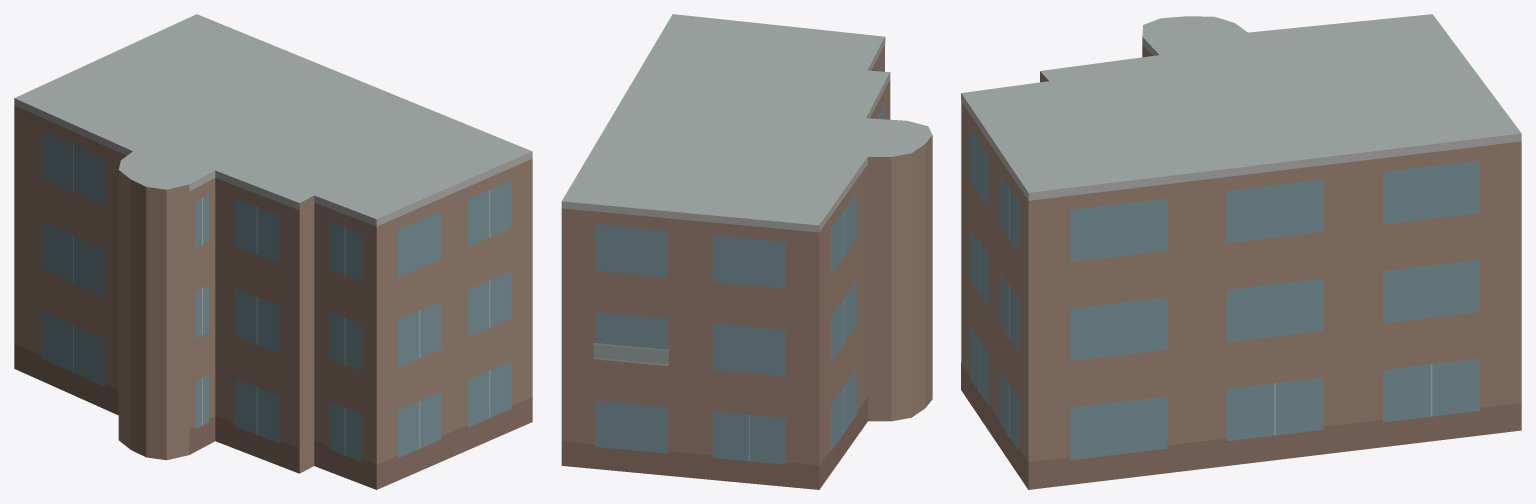
The model's file is survey-upis-32562116.glb.
The picture shows the model from 3 angles, left to right: view 1: azimuth 30°, elevation 25°; view 2: azimuth 150°, elevation 25°; view 3: azimuth 270°, elevation 25°; orthographic projection. The views are drawn at different scales.
Visible parts, largest first — view 1: survey-upis-32562116.tmp; view 2: survey-upis-32562116.tmp; view 3: survey-upis-32562116.tmp.
Boxes of the visible parts, left/top/right/bottom form: survey-upis-32562116.tmp: left=14, top=14, right=532, bottom=489; survey-upis-32562116.tmp: left=561, top=14, right=932, bottom=489; survey-upis-32562116.tmp: left=961, top=14, right=1521, bottom=489.
Size of the model in its own units: 11.84 by 9.15 by 15.67.
